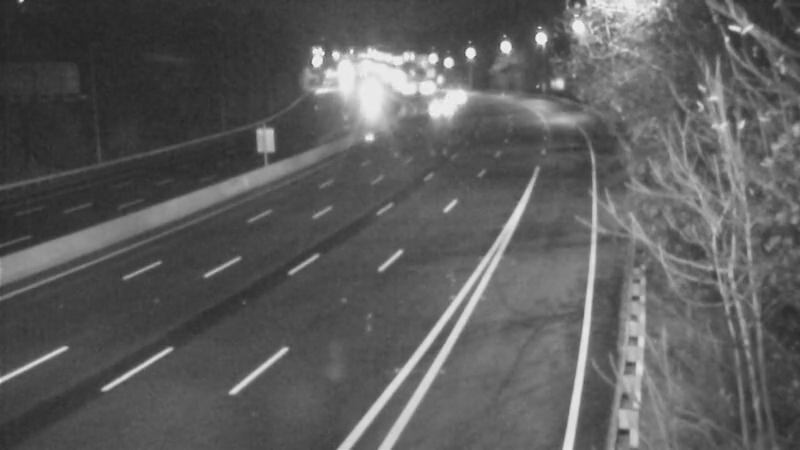vehicle: (400, 64, 450, 114), (384, 63, 434, 113), (431, 71, 481, 121), (415, 80, 465, 130), (343, 69, 393, 119)
